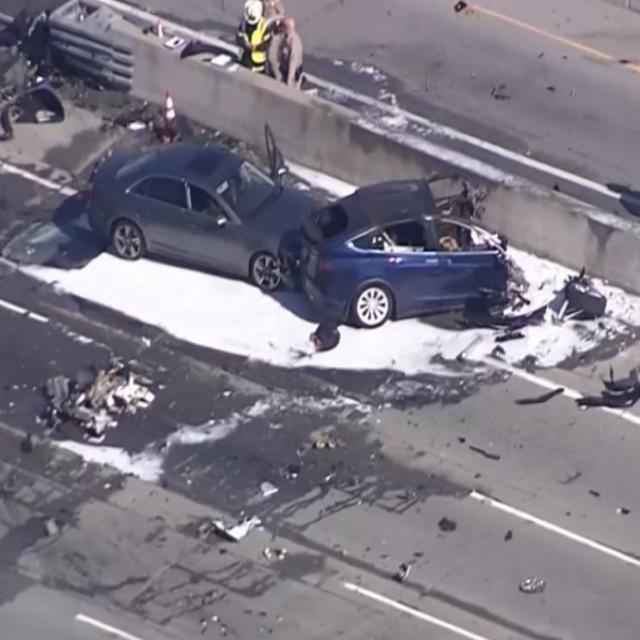traffic_incident: (79, 121, 308, 291), (301, 166, 542, 326)
